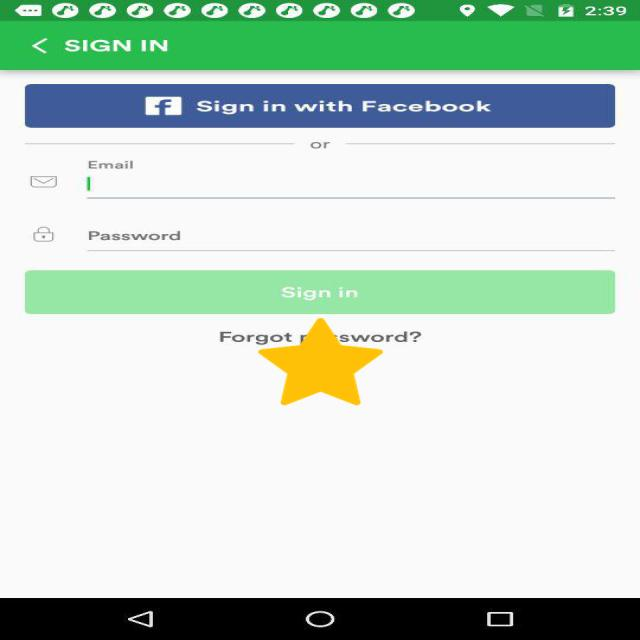forced continuity: (258, 318, 383, 405)
